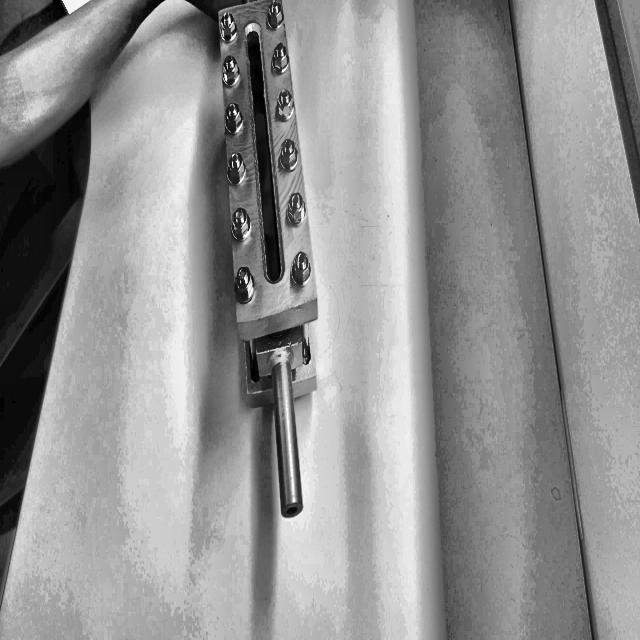ShuiWeiQi_12: (202, 8, 338, 522)
